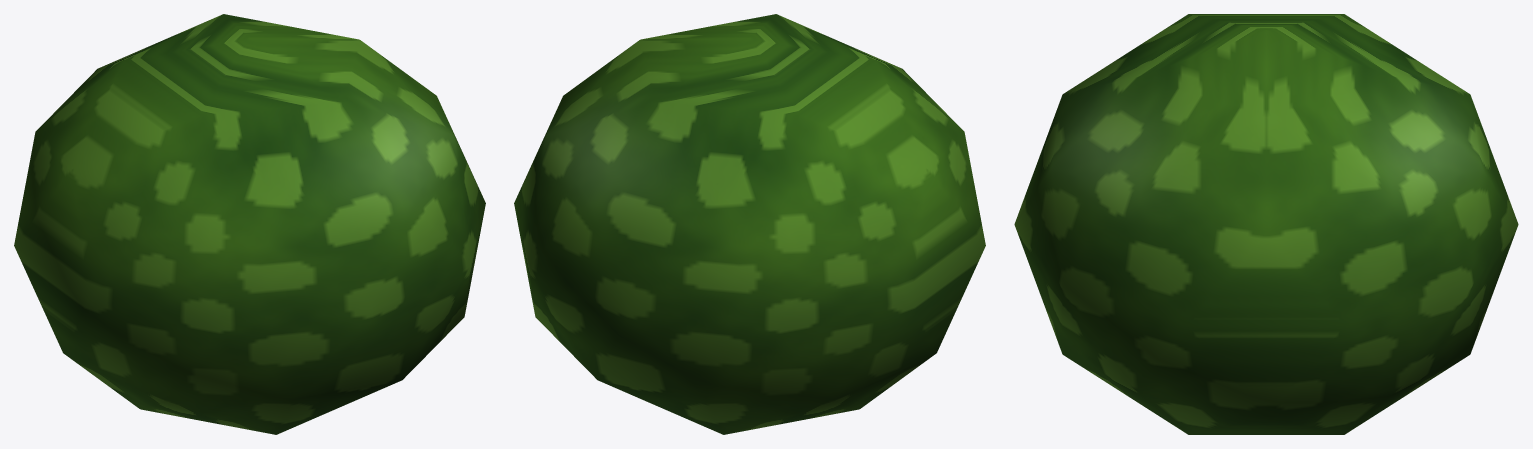
Rendered from aa_bush.fbx.
3 views of the same model, side by side, from view 1: azimuth 30°, elevation 25°; view 2: azimuth 150°, elevation 25°; view 3: azimuth 270°, elevation 25° (orthographic). The views are drawn at different scales.
Visible parts, largest first — view 1: Asset_Bush; view 2: Asset_Bush; view 3: Asset_Bush.
Part boxes in pixels (x1,y1,x2,y2): Asset_Bush: [14, 14, 485, 434]; Asset_Bush: [514, 14, 985, 434]; Asset_Bush: [1014, 14, 1518, 434].
Size of the model in its own units: 1.9 by 1.7 by 2.
Materials: 1 (1 with a texture image).
